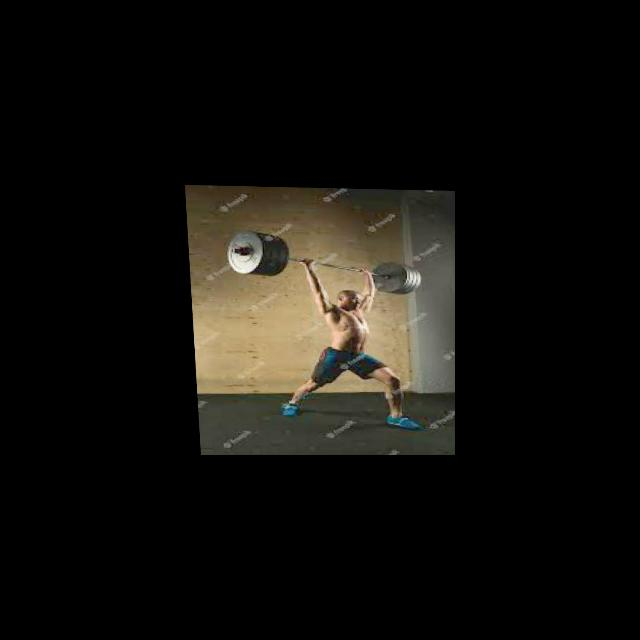barbell: (223, 228, 264, 279)
